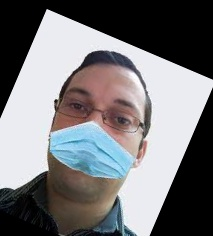mask_weared_incorrect: (48, 57, 150, 199)
